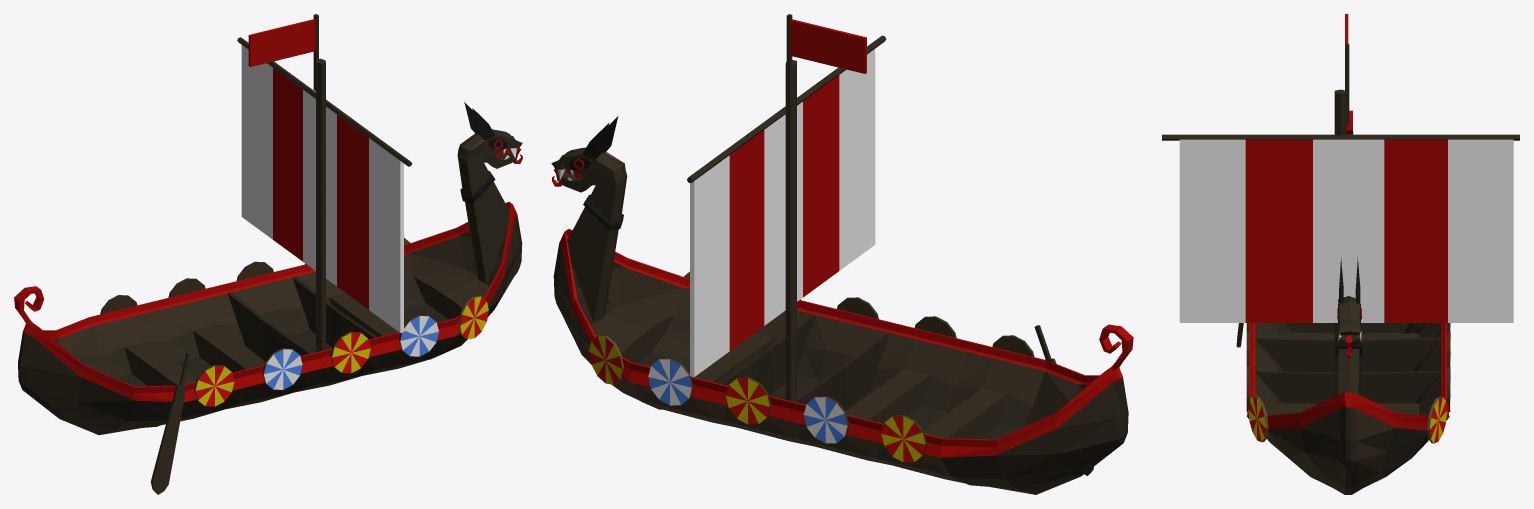
Rendered from Ship_04.fbx.
3 renders of one model, left to right at view 1: azimuth 30°, elevation 25°; view 2: azimuth 150°, elevation 25°; view 3: azimuth 270°, elevation 25°, orthographic. The views are drawn at different scales.
Parts seen in each view (by area): view 1: Ship_04, Sail, Flag, Rudder; view 2: Ship_04, Sail, Flag; view 3: Sail, Ship_04.
Boxes of the visible parts, x1=… form: Ship_04: x1=14, y1=14, x2=522, y2=435; Sail: x1=241, y1=45, x2=403, y2=332; Flag: x1=248, y1=19, x2=315, y2=66; Rudder: x1=150, y1=353, x2=190, y2=494; Ship_04: x1=551, y1=14, x2=1133, y2=494; Sail: x1=690, y1=49, x2=875, y2=376; Flag: x1=790, y1=19, x2=866, y2=73; Sail: x1=1179, y1=139, x2=1513, y2=322; Ship_04: x1=1162, y1=43, x2=1519, y2=494.
Bounding box in the file's own units: 2822 × 2076 × 1640.
